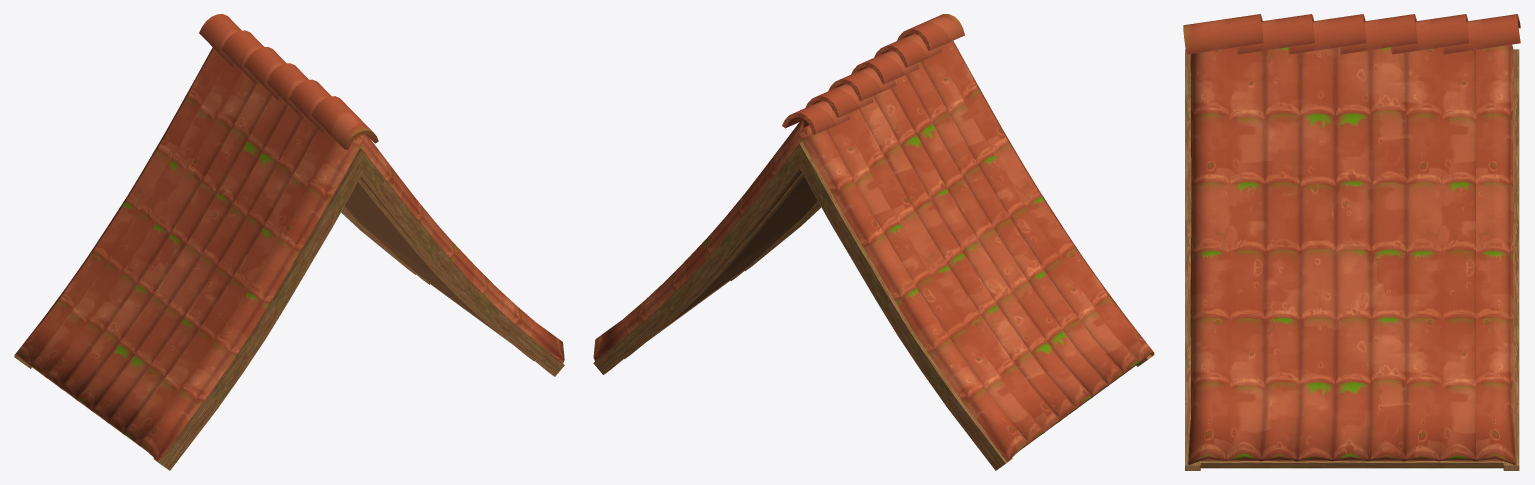
The model's file is Roof_RoundTiles_6x4.glb.
3 views of the same model, side by side, from view 1: azimuth 30°, elevation 25°; view 2: azimuth 150°, elevation 25°; view 3: azimuth 270°, elevation 25° (orthographic). The views are drawn at different scales.
Visible parts, largest first — view 1: Roof_RoundTiles_6x4; view 2: Roof_RoundTiles_6x4; view 3: Roof_RoundTiles_6x4.
Part boxes in pixels (x1,y1,x2,y2): Roof_RoundTiles_6x4: [14, 14, 564, 470]; Roof_RoundTiles_6x4: [593, 14, 1154, 470]; Roof_RoundTiles_6x4: [1183, 14, 1520, 470].
Size of the model in its own units: 8.25 by 5.67 by 4.99.
2 materials, 2 textured.
